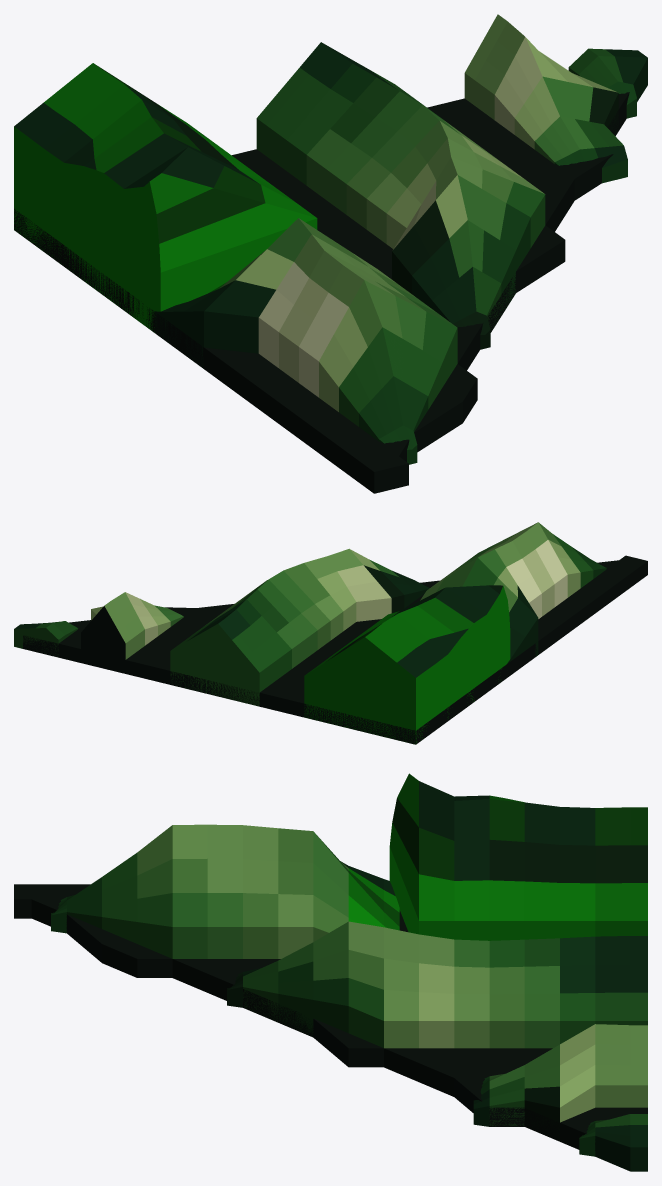
File: newshj-271.glb
3 renders of one model, top to bottom at view 1: azimuth 30°, elevation 25°; view 2: azimuth 150°, elevation 25°; view 3: azimuth 270°, elevation 25°, orthographic. The views are drawn at different scales.
Parts seen in each view (by area): view 1: newshj-271; view 2: newshj-271; view 3: newshj-271.
Part boxes in pixels (box(x1,y1,x2,y2)): newshj-271: box(14, 14, 647, 493); newshj-271: box(14, 522, 647, 744); newshj-271: box(14, 773, 647, 1171).
Bounding box in the file's own units: 1.5 × 0.34 × 1.5.
